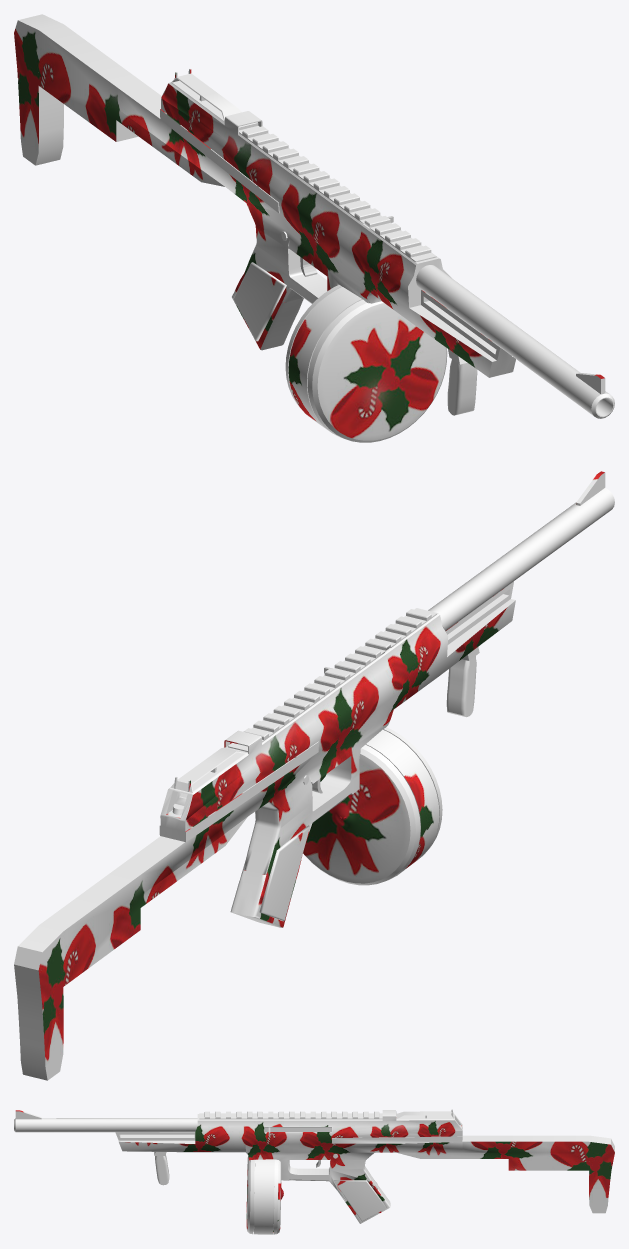
File: holiday weapon.FBX
3 renders of one model, top to bottom at view 1: azimuth 30°, elevation 25°; view 2: azimuth 150°, elevation 25°; view 3: azimuth 270°, elevation 25°, orthographic. The views are drawn at different scales.
Visible parts, largest first — view 1: Box002; view 2: Box002; view 3: Box002.
Boxes of the visible parts, x1,y1,x2,y2 form: Box002: (14,14,614,442); Box002: (14,471,614,1080); Box002: (14,1109,614,1234).
Size of the model in its own units: 8.62 by 13.78 by 62.9.
1 material, 1 textured.
